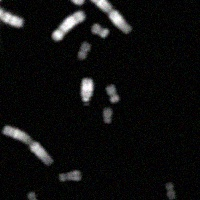chromosome: (2, 126, 53, 166), (89, 0, 132, 32), (52, 10, 86, 41), (0, 4, 24, 27), (79, 79, 94, 101), (105, 85, 120, 104), (59, 170, 80, 182), (92, 24, 108, 38), (77, 42, 90, 59), (166, 183, 175, 200), (54, 0, 84, 5), (103, 107, 113, 122), (28, 192, 42, 200)
